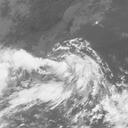cyclone: (37, 43, 102, 109)
